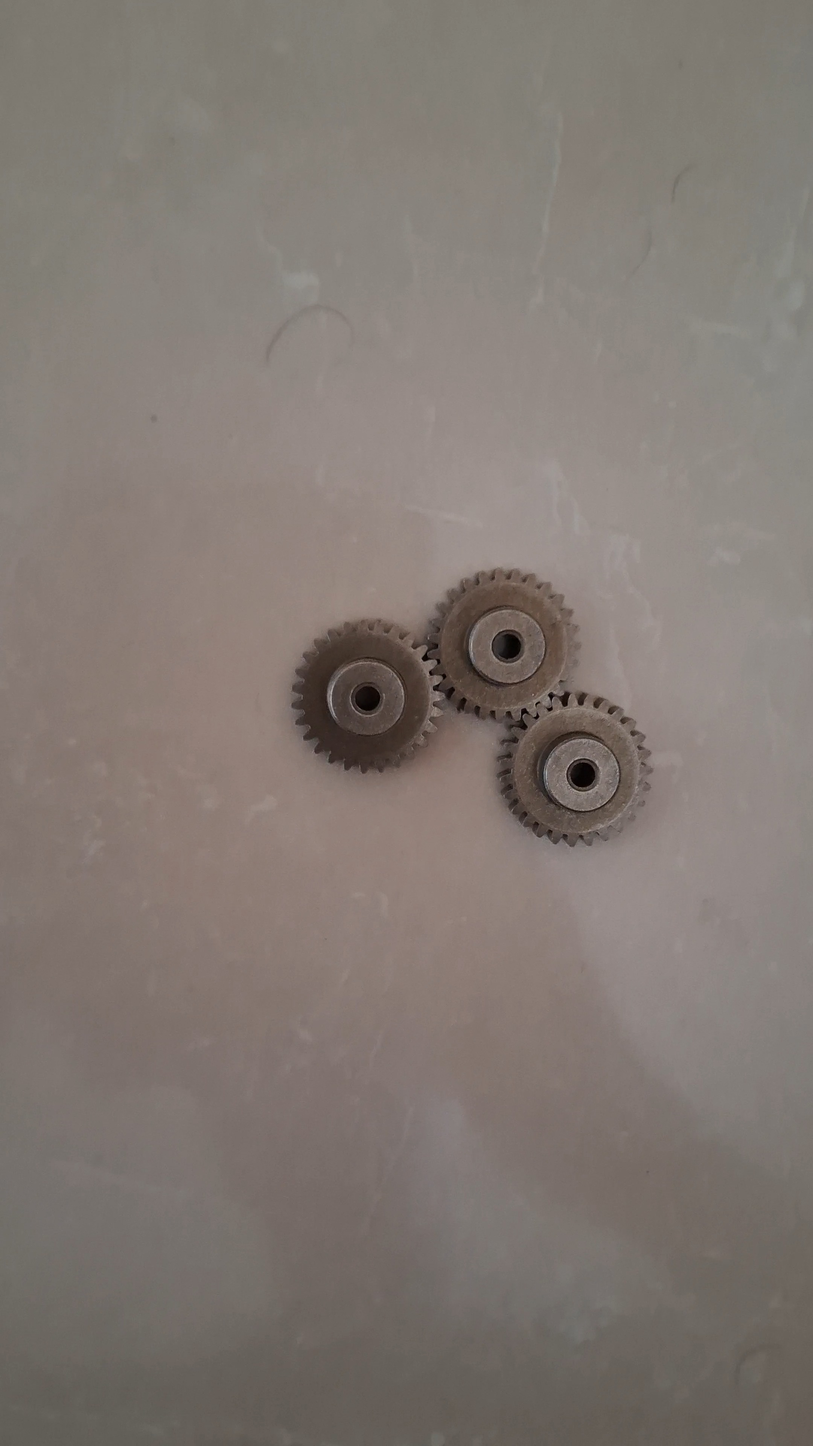spur gear: (499, 691, 652, 845), (428, 569, 579, 718), (292, 620, 440, 772)
